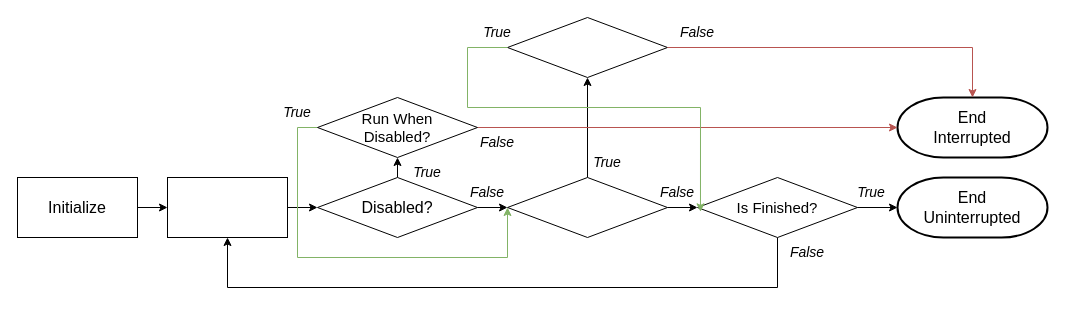
This 1066x313 diagram has some shape labels left out. The shapes that lost their labels are listed below. From the top down, each one's box as (x1, y1, x2, y2) in pixels, then its label:
(506, 16, 668, 78): Cancel Incoming?
(166, 176, 288, 238): Execute
(506, 176, 668, 238): Requirement Conflict?
